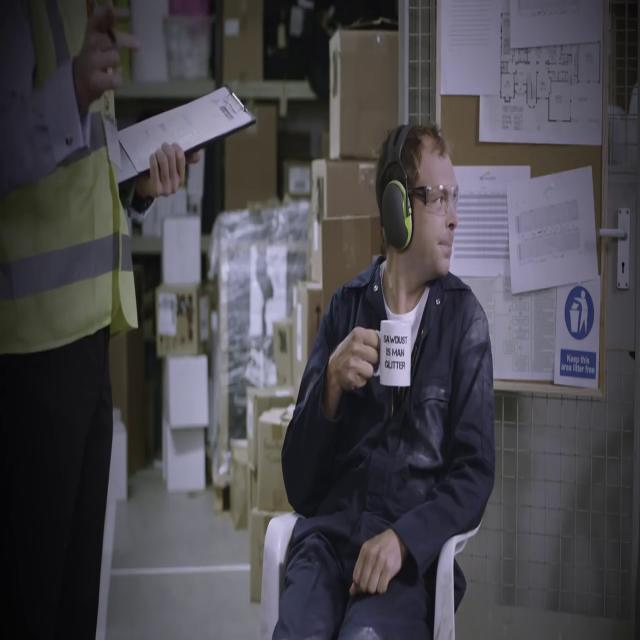earmuff: (382, 184, 414, 252)
glasses: (423, 182, 464, 216)
